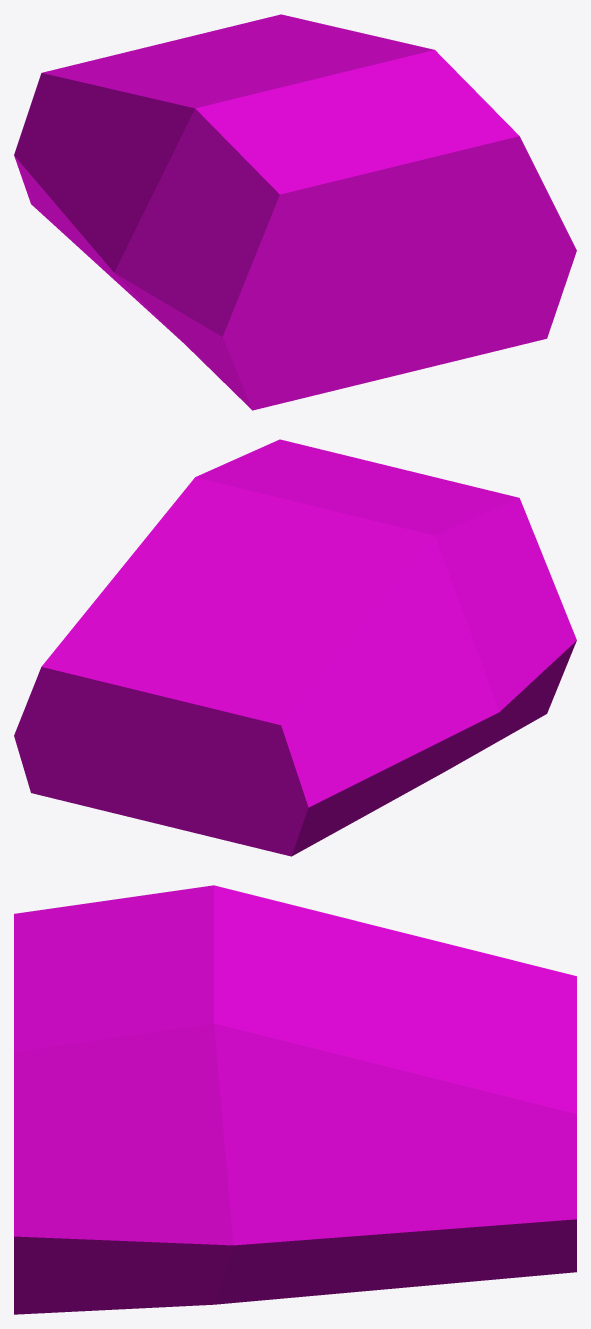
The model's file is snak.fbx.
3 views of the same model, one above another, from view 1: azimuth 30°, elevation 25°; view 2: azimuth 150°, elevation 25°; view 3: azimuth 270°, elevation 25° (orthographic). The views are drawn at different scales.
Parts seen in each view (by area): view 1: Cube; view 2: Cube; view 3: Cube.
Boxes of the visible parts, box(x1,y1,x2,y2) form: Cube: box(14, 14, 576, 410); Cube: box(14, 439, 576, 856); Cube: box(14, 885, 576, 1314).
Bounding box in the file's own units: 262 × 151 × 280.
